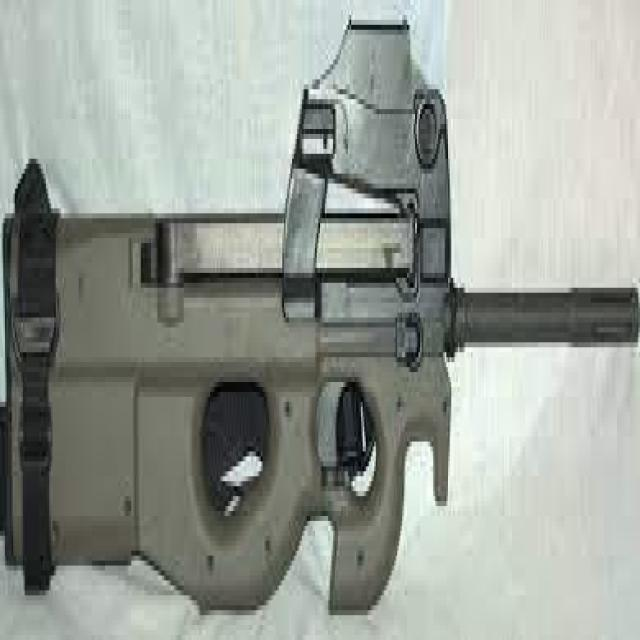Gun: (2, 0, 495, 637)
